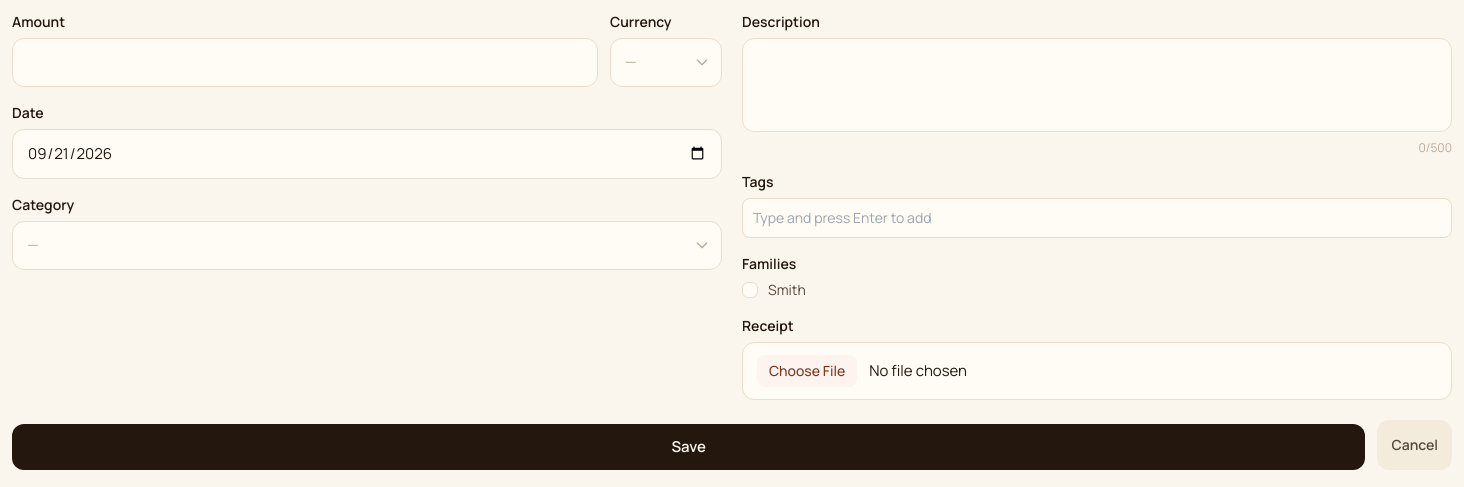
Test: ExpenseForm › rendering › shows a character counter that updates as description is typed
This screenshot has width=1464, height=487.
Expected: the text "0/500" is shown, [1418,138,1452,156]
Type "Weekly shop" into the text box labelled "Description". click: x=1097, y=85
box: [742,38,1452,132]
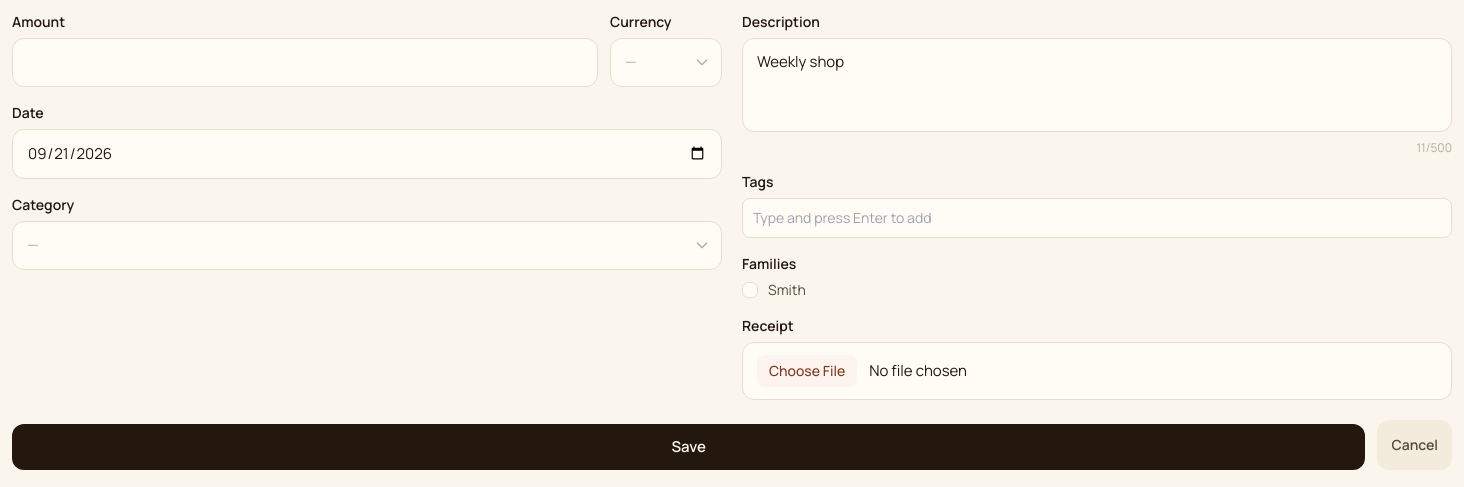
Now the text "11/500" is shown, box [1416,138,1452,156]
